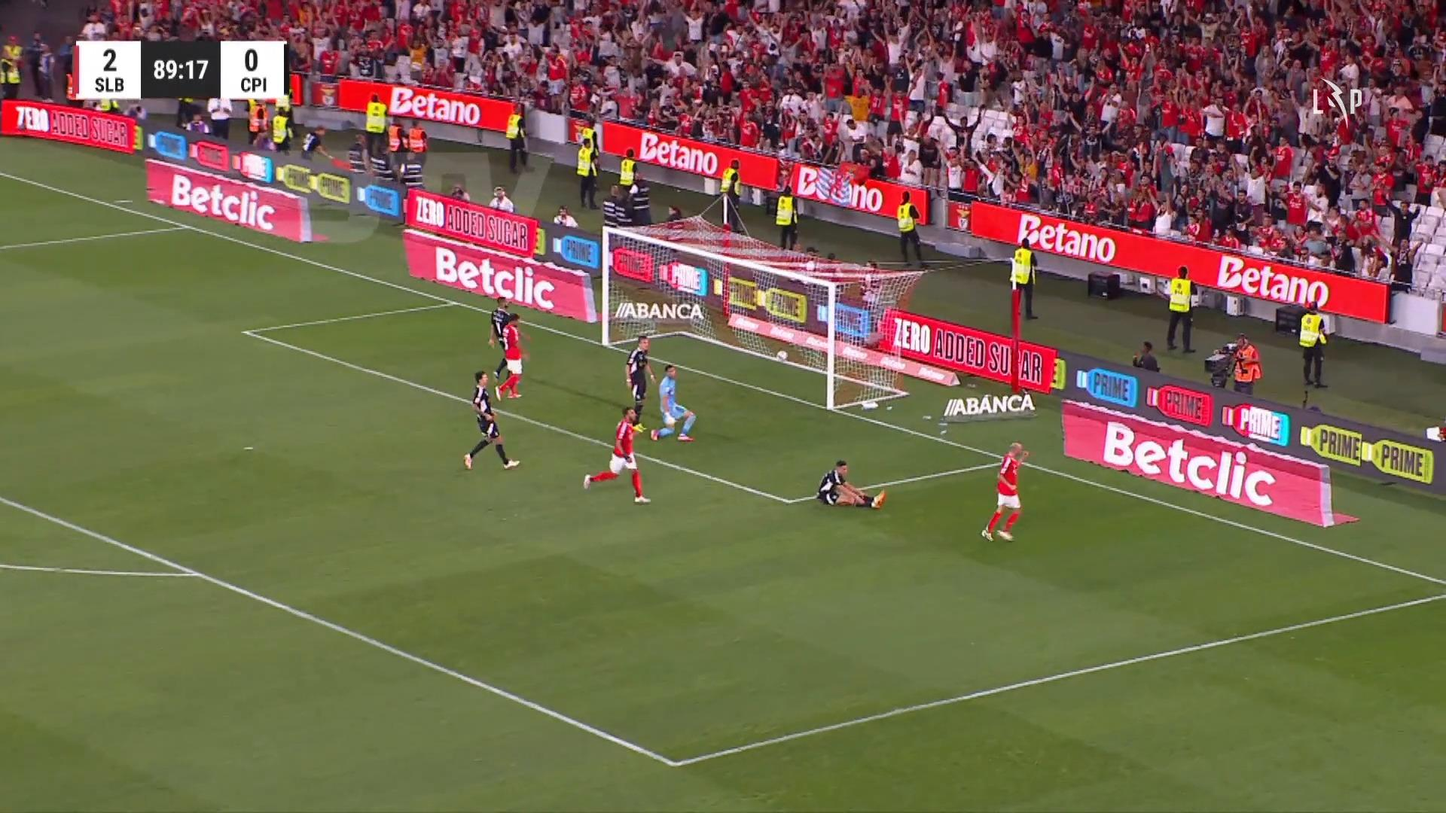ball: (776, 350, 787, 361)
goalkeeper: (648, 364, 697, 442)
player: (581, 406, 651, 504), (462, 370, 520, 470), (979, 440, 1029, 542), (815, 459, 886, 509), (624, 334, 656, 431), (493, 312, 528, 400), (487, 295, 514, 382)
